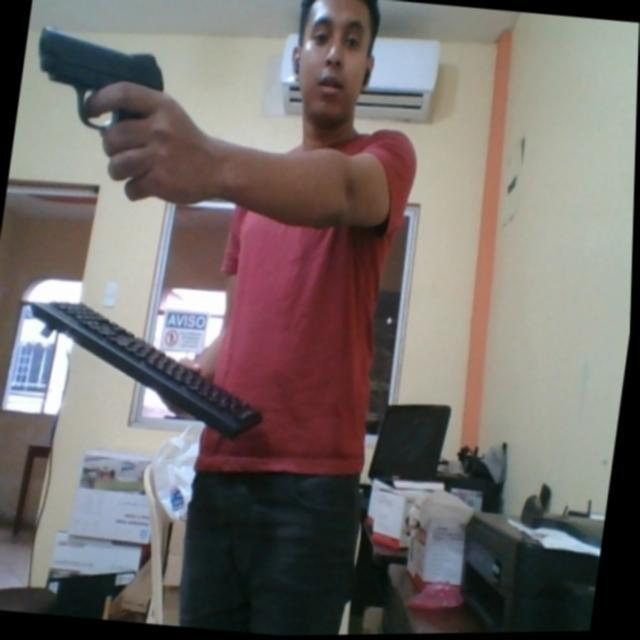weapon: (18, 23, 175, 168)
